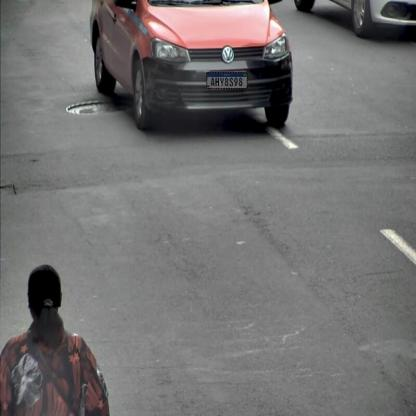PlacaM: (206, 72, 247, 89)
